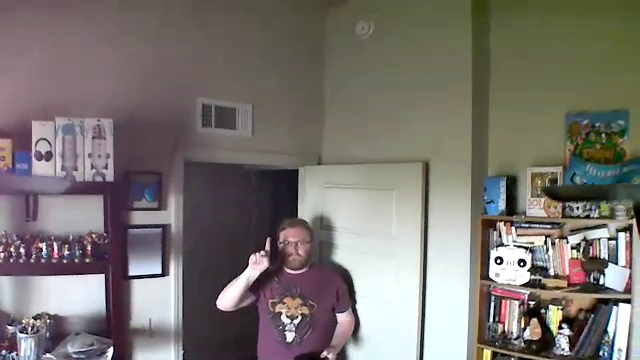up: (248, 235, 274, 269)
